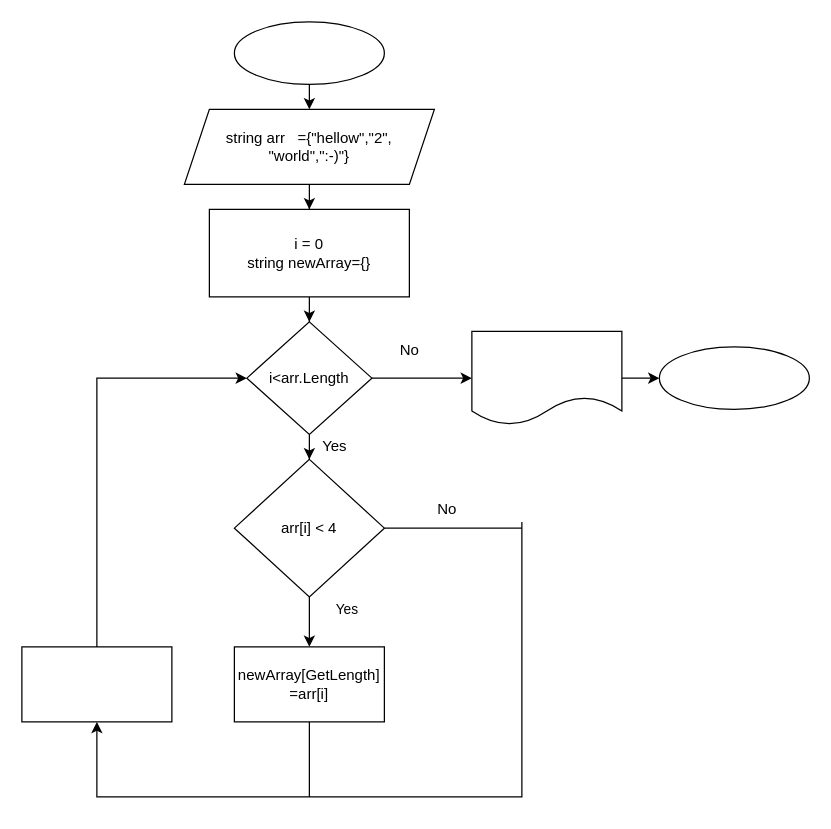
This 831x829 diagram has some shape labels left out. The shapes that lost their labels are listed below. From the top down, each one's centre as x and y in pixels, then its label:
the point at 546,377: Print newArray
the point at 96,684: i = i + 1
